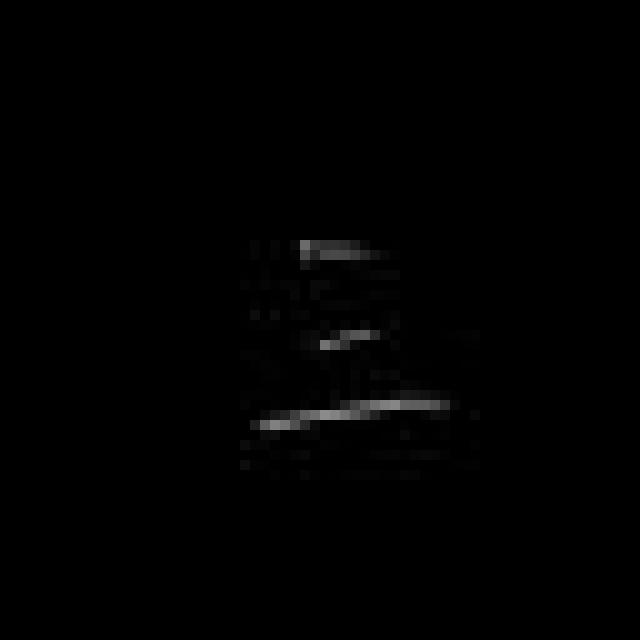3 -three-: (241, 219, 457, 460)
